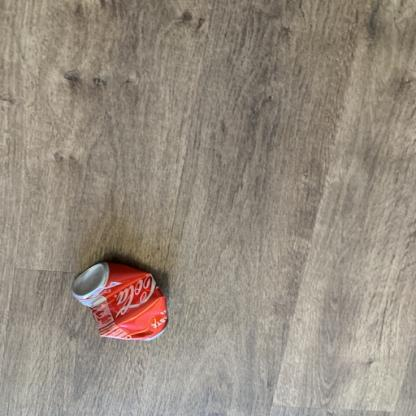trash: (64, 249, 180, 350)
